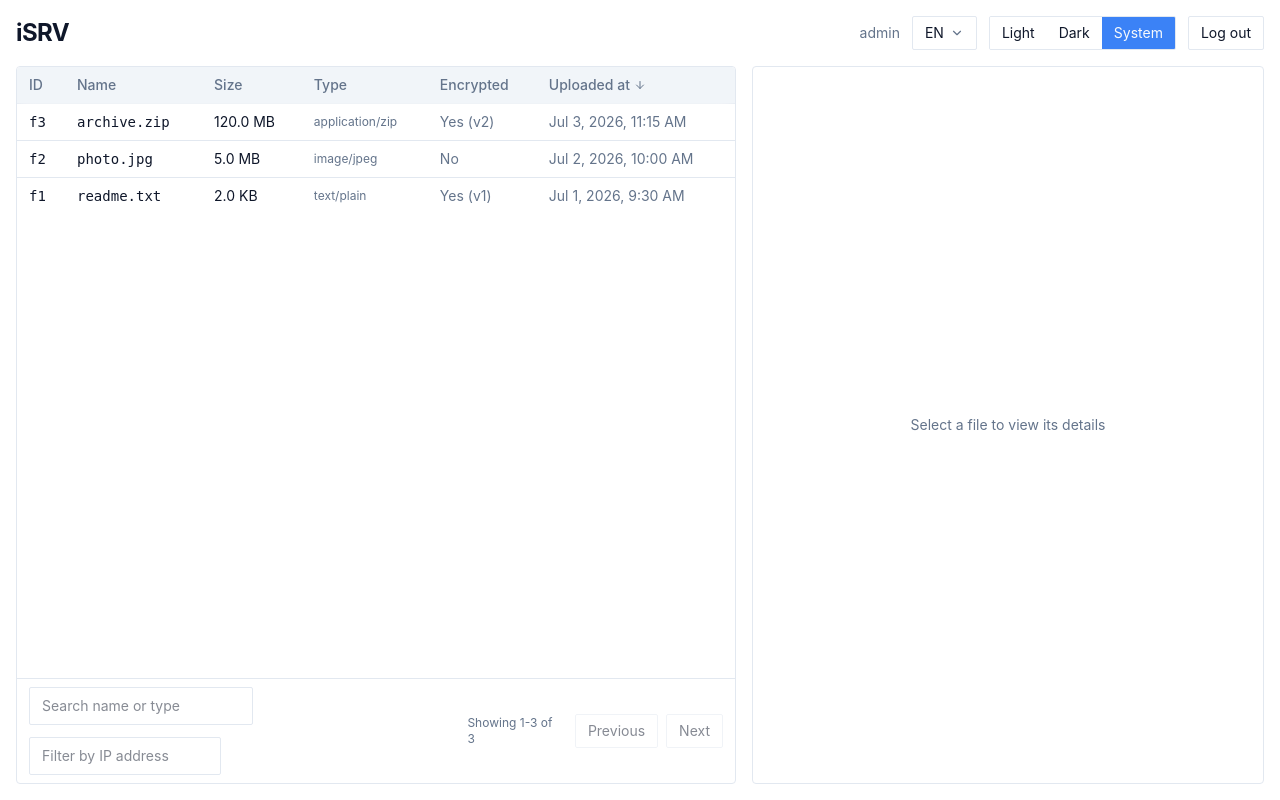
admin files dashboard › filters files with the search input
Expected: the text "readme.txt" is shown, [77,188,161,204]
Type "photo" into the field with placeholder "Search name or type" at (141, 706), box [29,687,253,725]
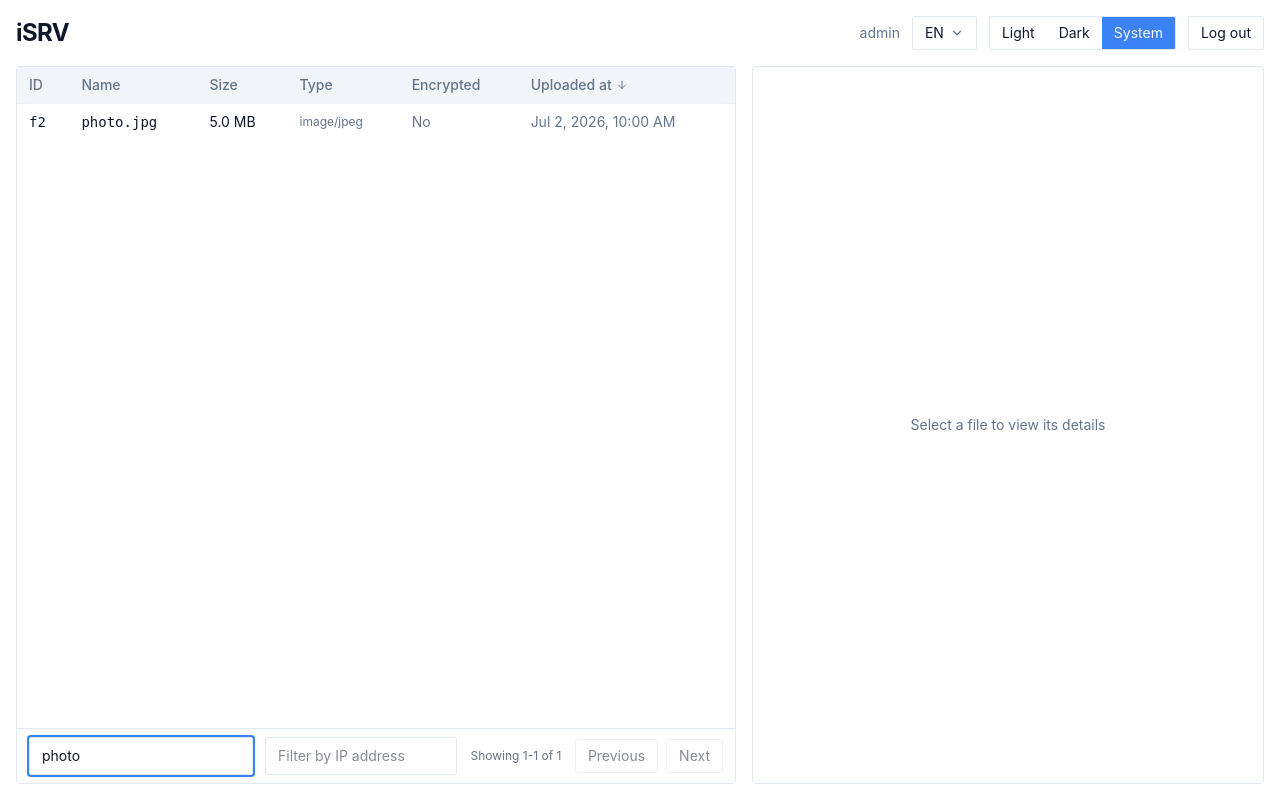
Now the text "readme.txt" is gone
Now the text "photo.jpg" is shown, box [81,114,157,130]
Now the text "Showing 1-1 of 1" is shown, box [470,748,561,764]
